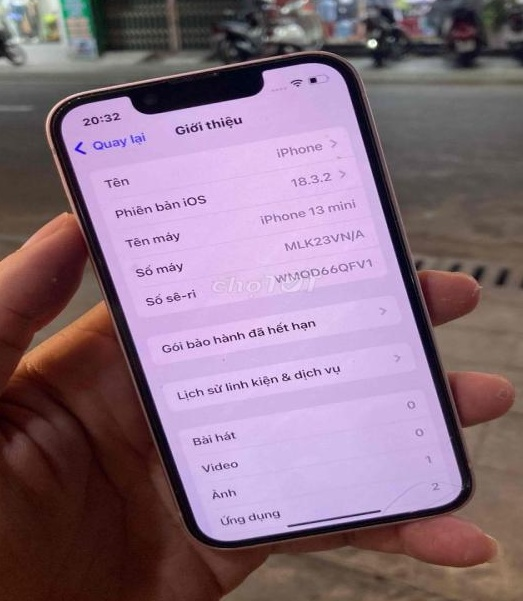screen_defect: (346, 454, 479, 523)
